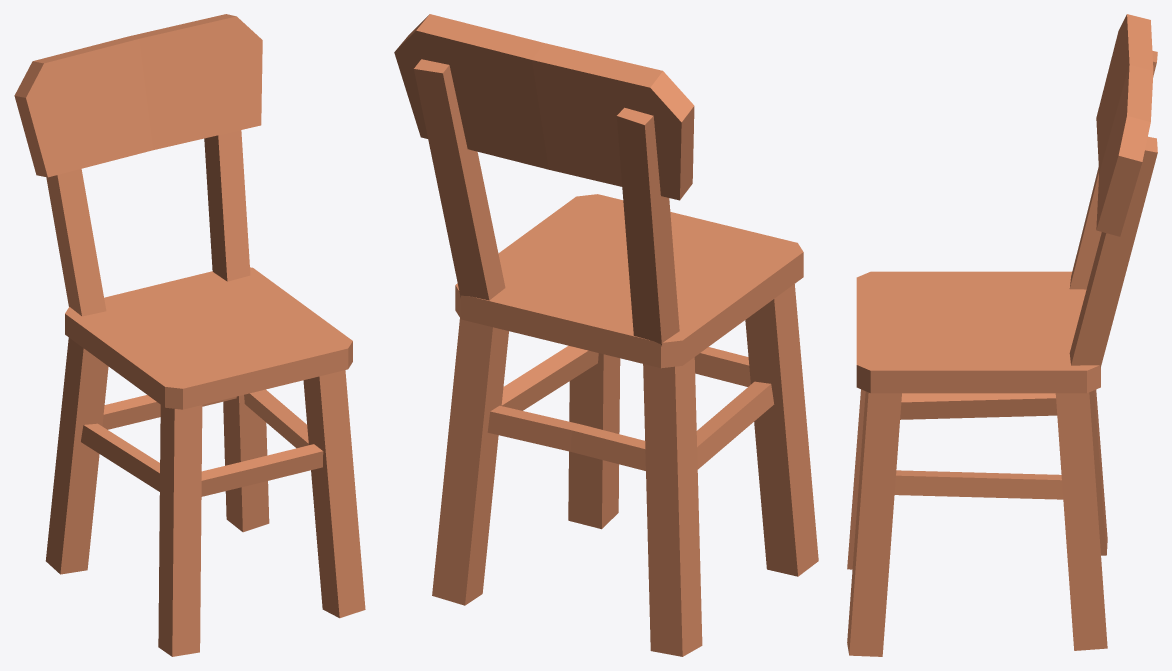
File: SM_Furniture_Chair_01.fbx
3 views of the same model, side by side, from view 1: azimuth 30°, elevation 25°; view 2: azimuth 150°, elevation 25°; view 3: azimuth 270°, elevation 25° (orthographic). The views are drawn at different scales.
Parts seen in each view (by area): view 1: Chair_01; view 2: Chair_01; view 3: Chair_01.
Boxes of the visible parts, left/top/right/bottom form: Chair_01: left=14, top=14, right=365, bottom=656; Chair_01: left=394, top=14, right=818, bottom=656; Chair_01: left=847, top=14, right=1157, bottom=656.
Size of the model in its own units: 59.05 by 119 by 61.85.
